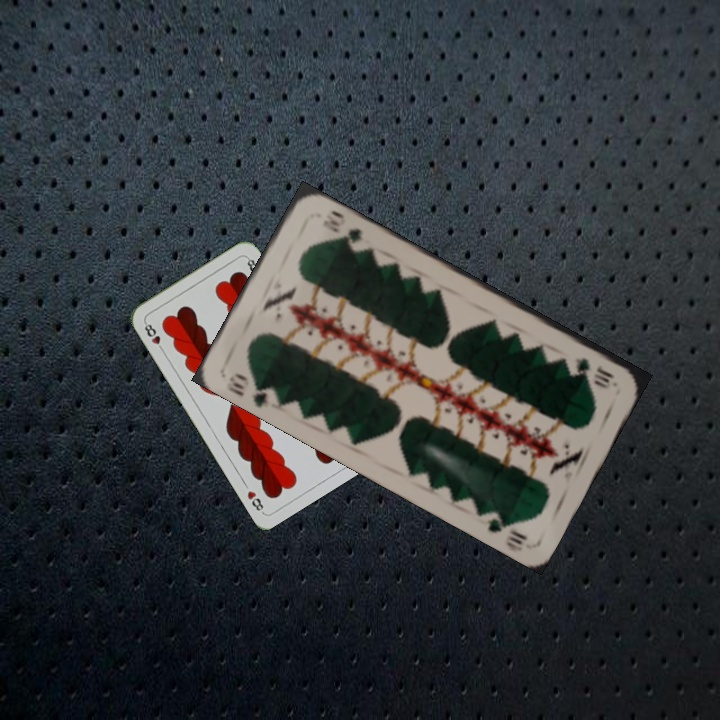G10: (222, 368, 280, 409), (571, 353, 618, 389)
H8: (140, 318, 167, 354)
